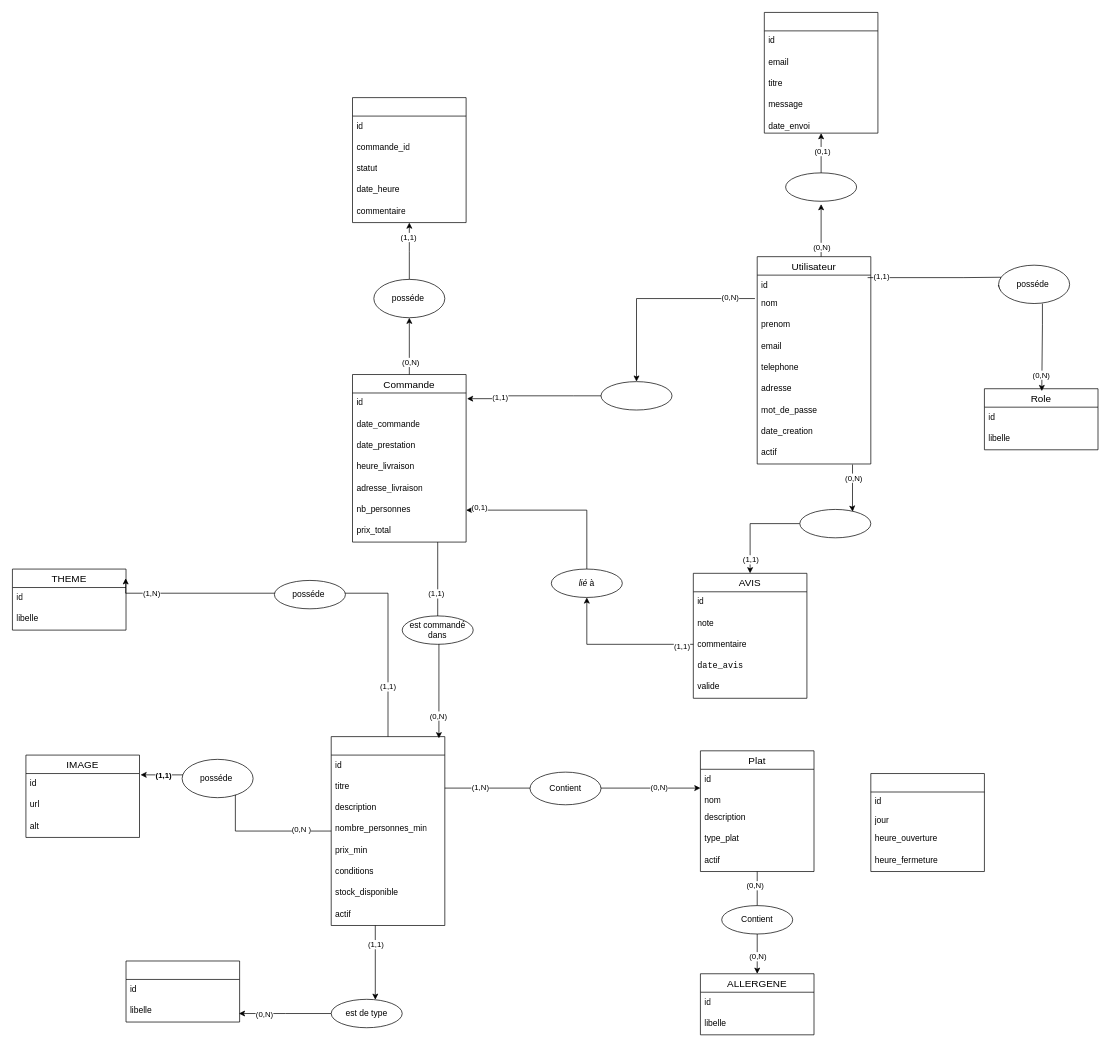
The diagram is 1110 pixels wide and 1049 high, and some of its shapes have lost their labels. The shapes that lost their labels are listed below. From the top down, each one's box as (x1, y1, x2, y2) in pixels, then its label:
(764, 12, 878, 133): DEMANDE_CONTACT
(352, 97, 466, 223): SUIVI_COMMANDE
(785, 172, 857, 201): envoie
(600, 381, 672, 410): passe
(799, 509, 871, 538): rédige
(331, 736, 445, 925): Menu
(870, 773, 984, 872): HORAIRE
(125, 960, 240, 1022): REGIME
